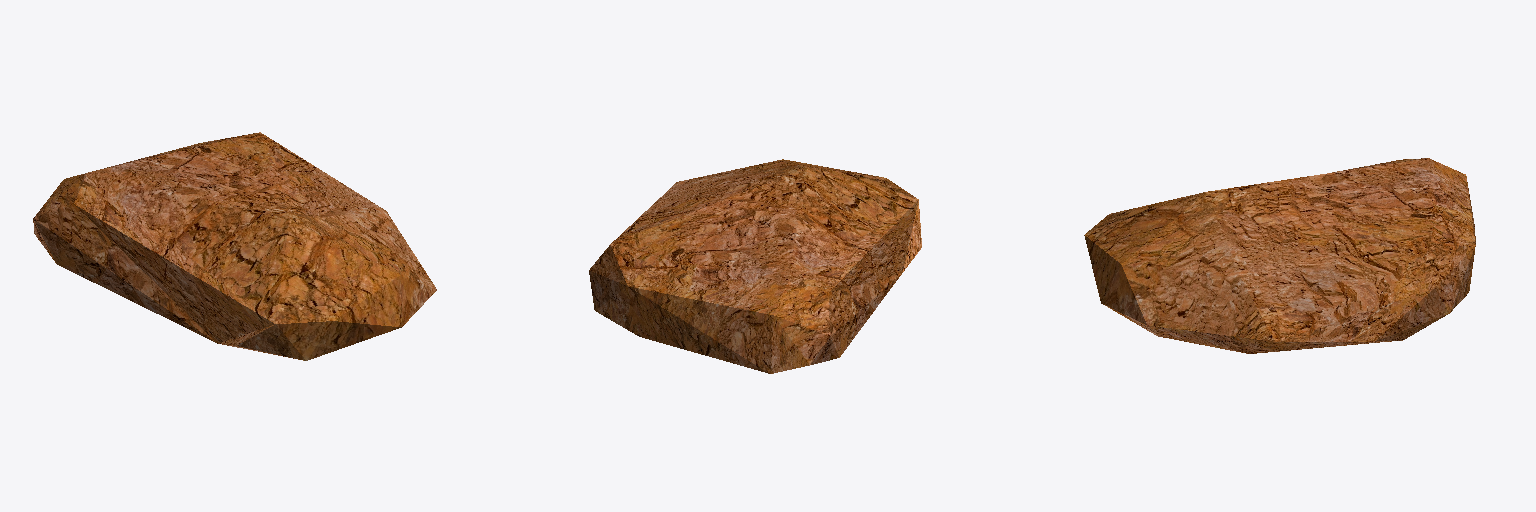
3 renders of one model, left to right at view 1: azimuth 30°, elevation 25°; view 2: azimuth 150°, elevation 25°; view 3: azimuth 270°, elevation 25°, orthographic.
Parts seen in each view (by area): view 1: rocksquare8; view 2: rocksquare8; view 3: rocksquare8.
Part boxes in pixels (x1,y1,x2,y2): rocksquare8: (33,132,436,360); rocksquare8: (589,159,921,373); rocksquare8: (1084,158,1475,353).
Bounding box in the file's own units: 2.94 × 1.24 × 3.5.
Materials: 1 (1 with a texture image).